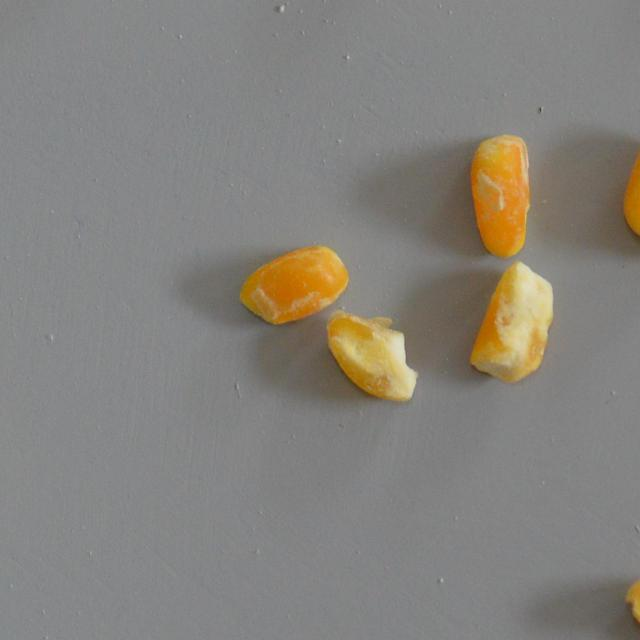estandar: (466, 261, 554, 384)
pelicula: (236, 242, 350, 328), (321, 302, 418, 402), (470, 132, 532, 260), (622, 118, 640, 255), (622, 574, 640, 640)
